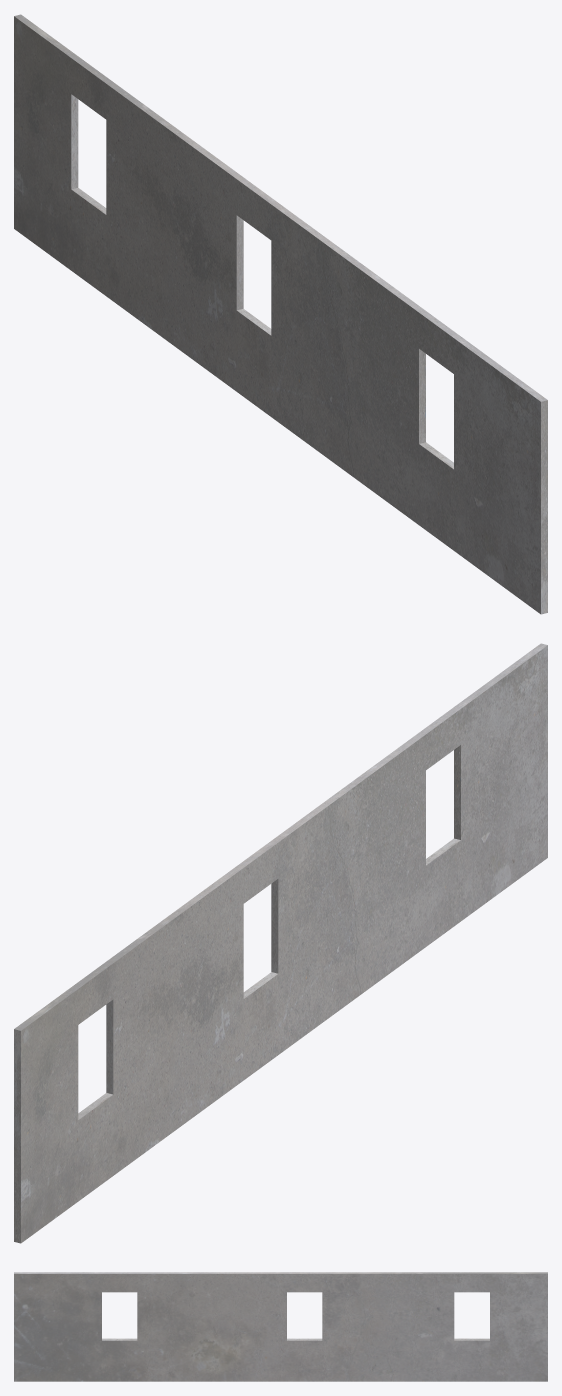
Rendered from murtop.obj.
3 views of the same model, one above another, from view 1: azimuth 30°, elevation 25°; view 2: azimuth 150°, elevation 25°; view 3: azimuth 270°, elevation 25° (orthographic). The views are drawn at different scales.
Parts seen in each view (by area): view 1: pCube187; view 2: pCube187; view 3: pCube187.
Part boxes in pixels (box(x1,y1,x2,y2)): pCube187: box(14, 14, 547, 614); pCube187: box(14, 643, 547, 1243); pCube187: box(14, 1272, 547, 1381).
Bounding box in the file's own units: 22.32 × 645 × 2899.
1 material, 1 textured.
